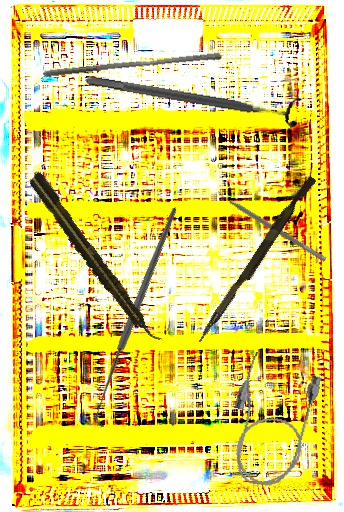Cannula: (217, 349, 325, 495)
Fixation Ring: (83, 63, 304, 131)
Handpiece: (25, 169, 164, 350)
Hook Surgical: (21, 205, 255, 430)
Pusher: (196, 172, 317, 348), (42, 45, 223, 85)
Spatula Surgical: (214, 186, 330, 263)
